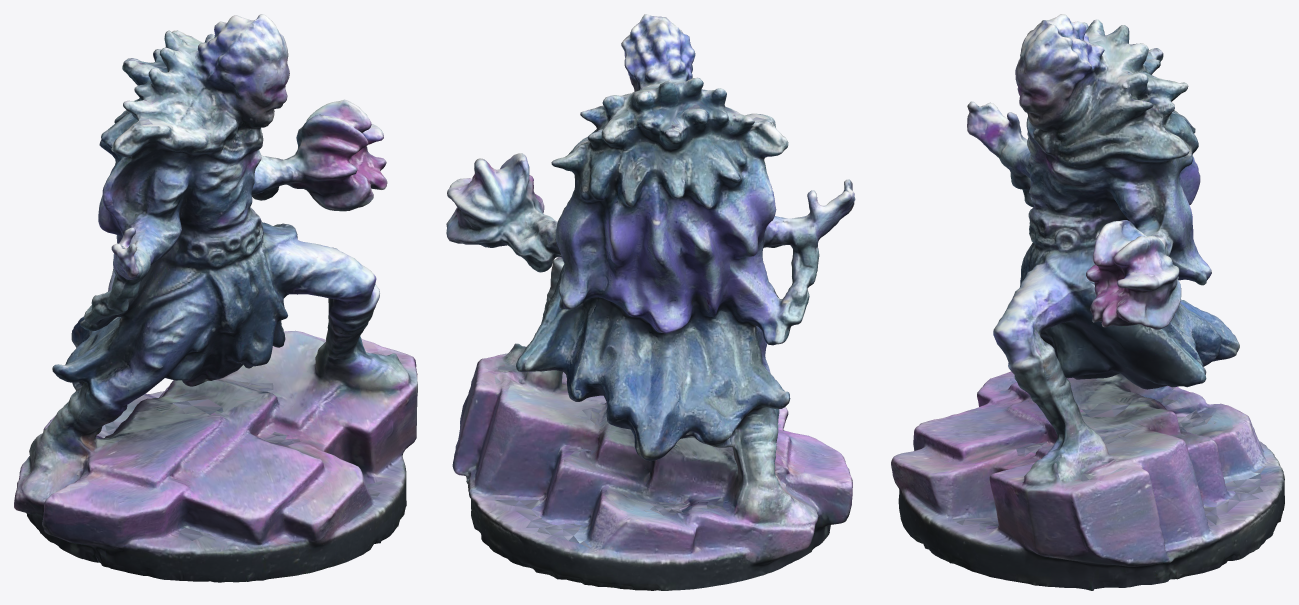
The model's file is Shackles.glb.
The picture shows the model from 3 angles, left to right: view 1: azimuth 30°, elevation 25°; view 2: azimuth 150°, elevation 25°; view 3: azimuth 270°, elevation 25°; orthographic projection. The views are drawn at different scales.
Parts seen in each view (by area): view 1: pain_conduit; view 2: pain_conduit; view 3: pain_conduit.
Part boxes in pixels (x1=…): pain_conduit: x1=14, y1=14, x2=417, y2=582; pain_conduit: x1=446, y1=14, x2=855, y2=590; pain_conduit: x1=891, y1=14, x2=1284, y2=590.
Size of the model in its own units: 8.29 by 10.14 by 7.29.
Materials: 1 (1 with a texture image).
